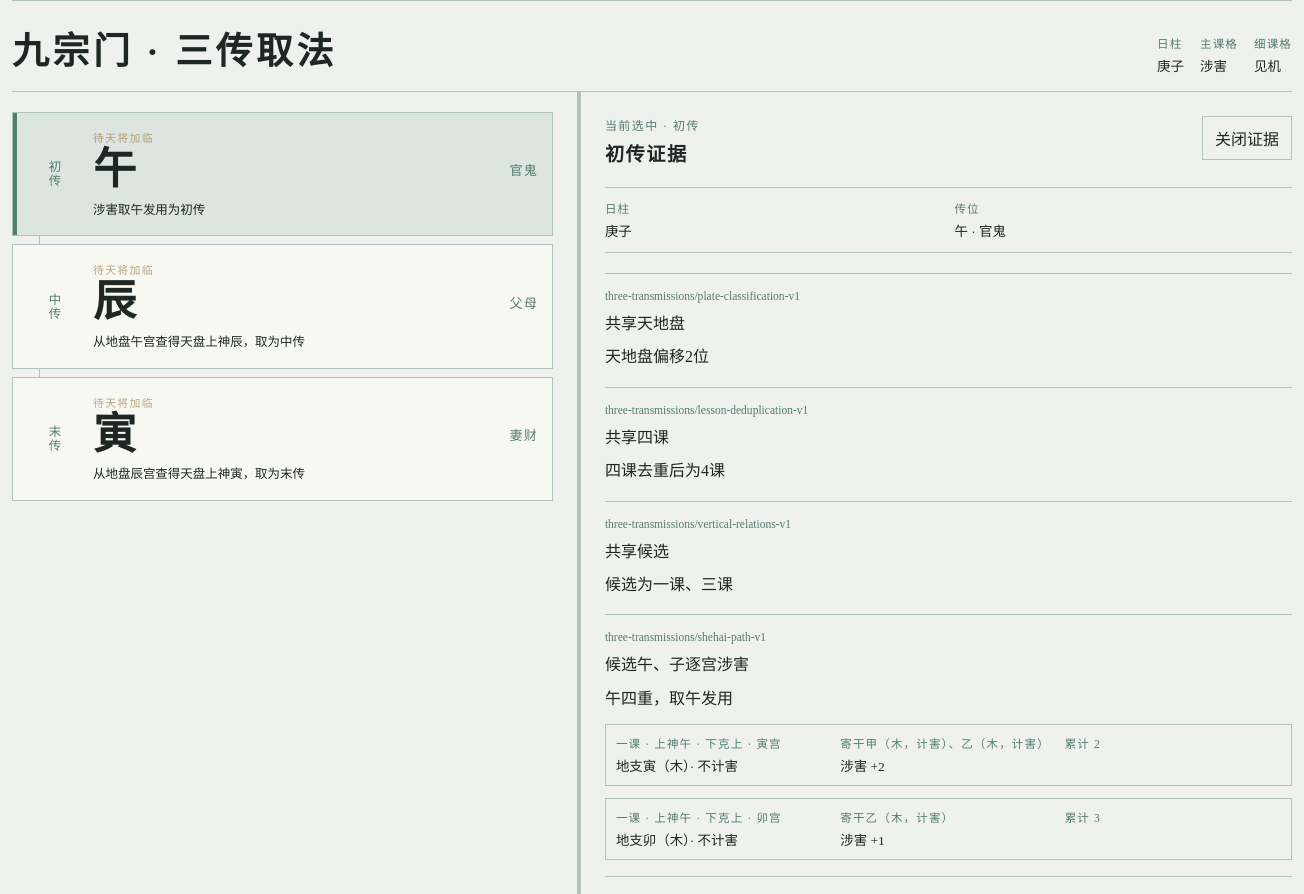
Test case: ThreeTransmissionsReview › keeps shared and transmission evidence isolated by the selected transmission
This screenshot has width=1304, height=894.
Expected: the text "共享天地盘" is shown, [605,315,685,332]
Expected: the text "共享四课" is shown, [605,429,669,446]
Click the button "待天将加临 辰 中传 父母 从地盘午宫查得天盘上神辰，取为中传" at {"x": 123, "y": 270}, box [12,244,553,369]
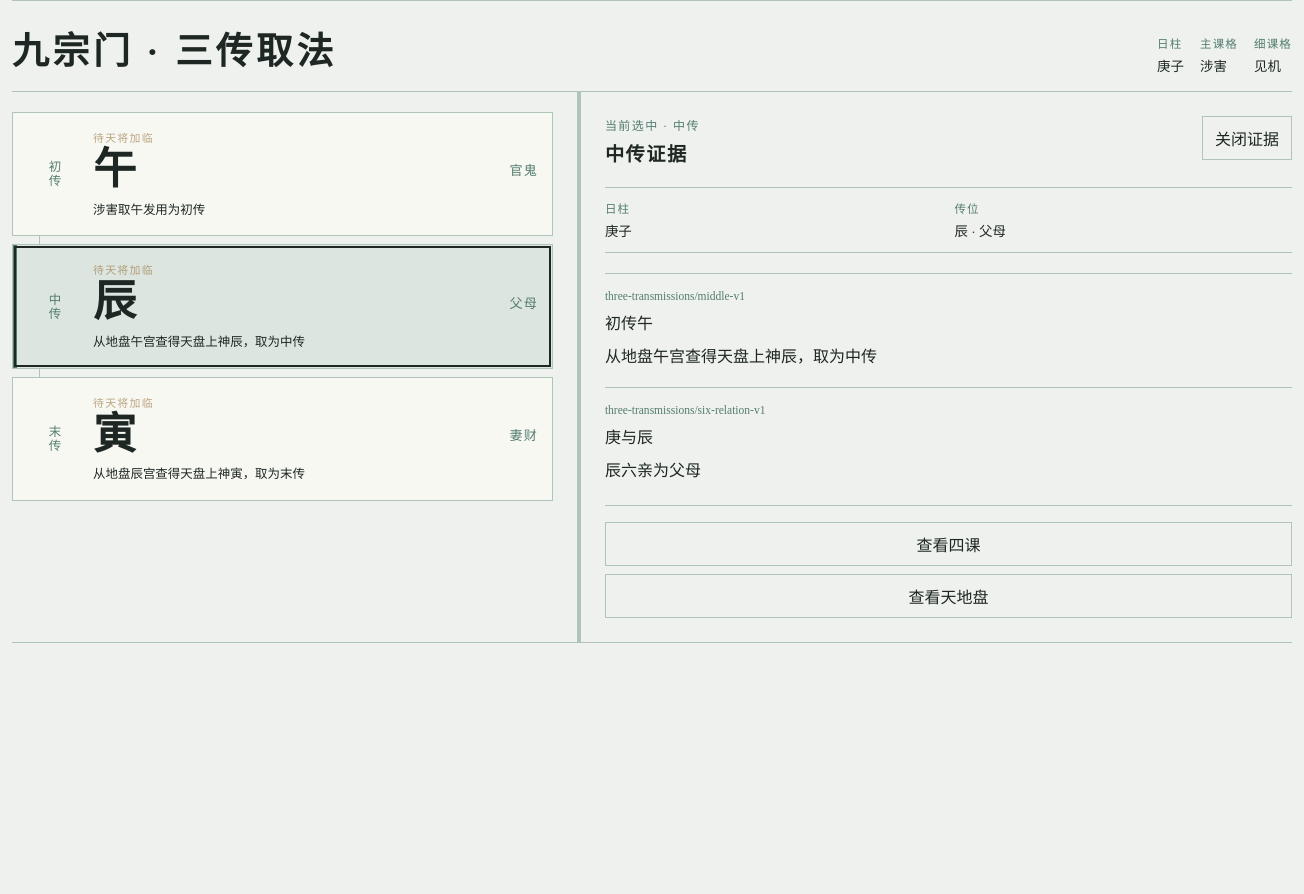
Now the text "初传午" is shown, box [605,315,653,332]
Now the text "庚与辰" is shown, box [605,429,653,446]
Now the text "共享天地盘" is gone
Click the button "待天将加临 寅 末传 妻财 从地盘辰宫查得天盘上神寅，取为末传" at {"x": 123, "y": 403}, box [12,377,553,501]
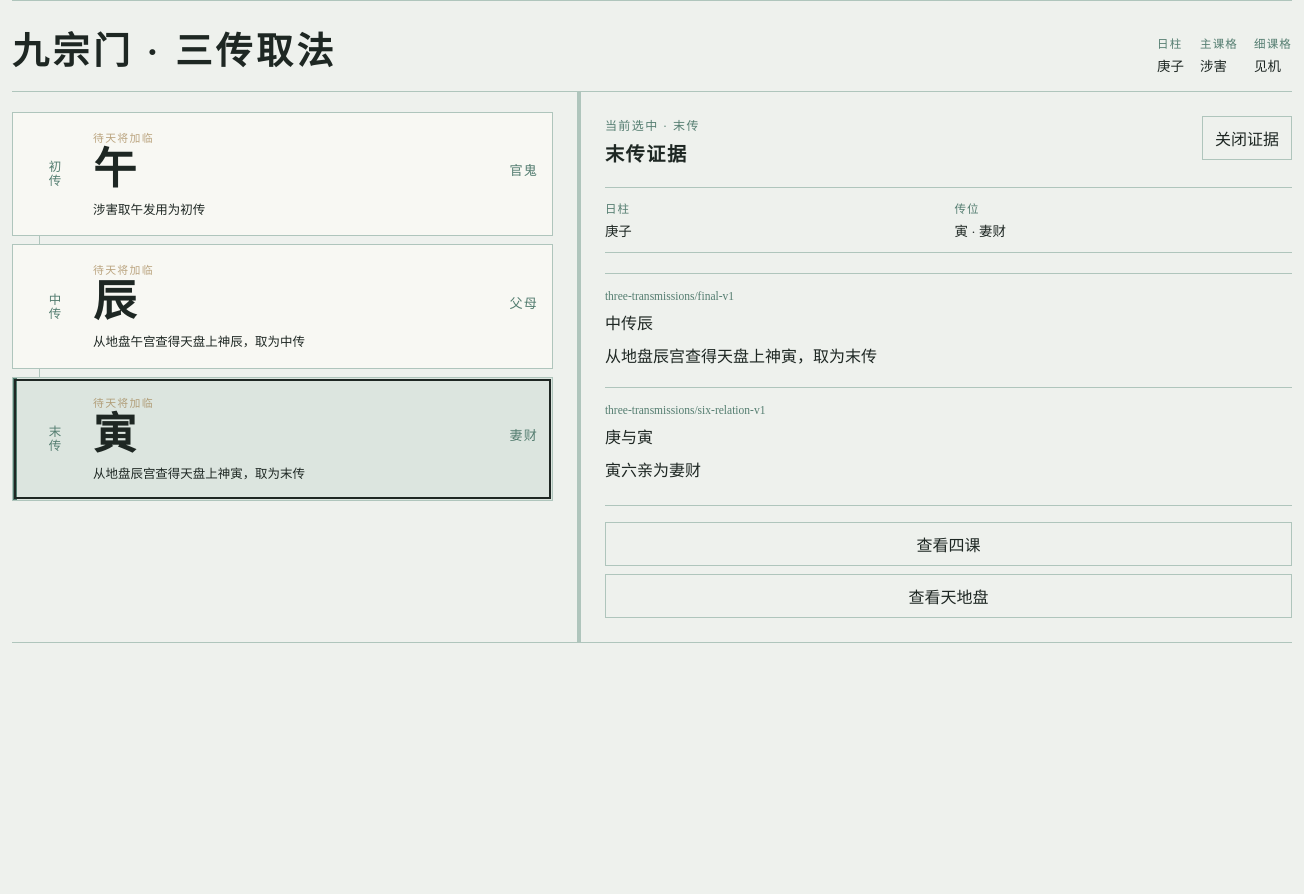
Now the text "中传辰" is shown, box [605,315,653,332]
Now the text "庚与寅" is shown, box [605,429,653,446]
Now the text "初传午" is gone
